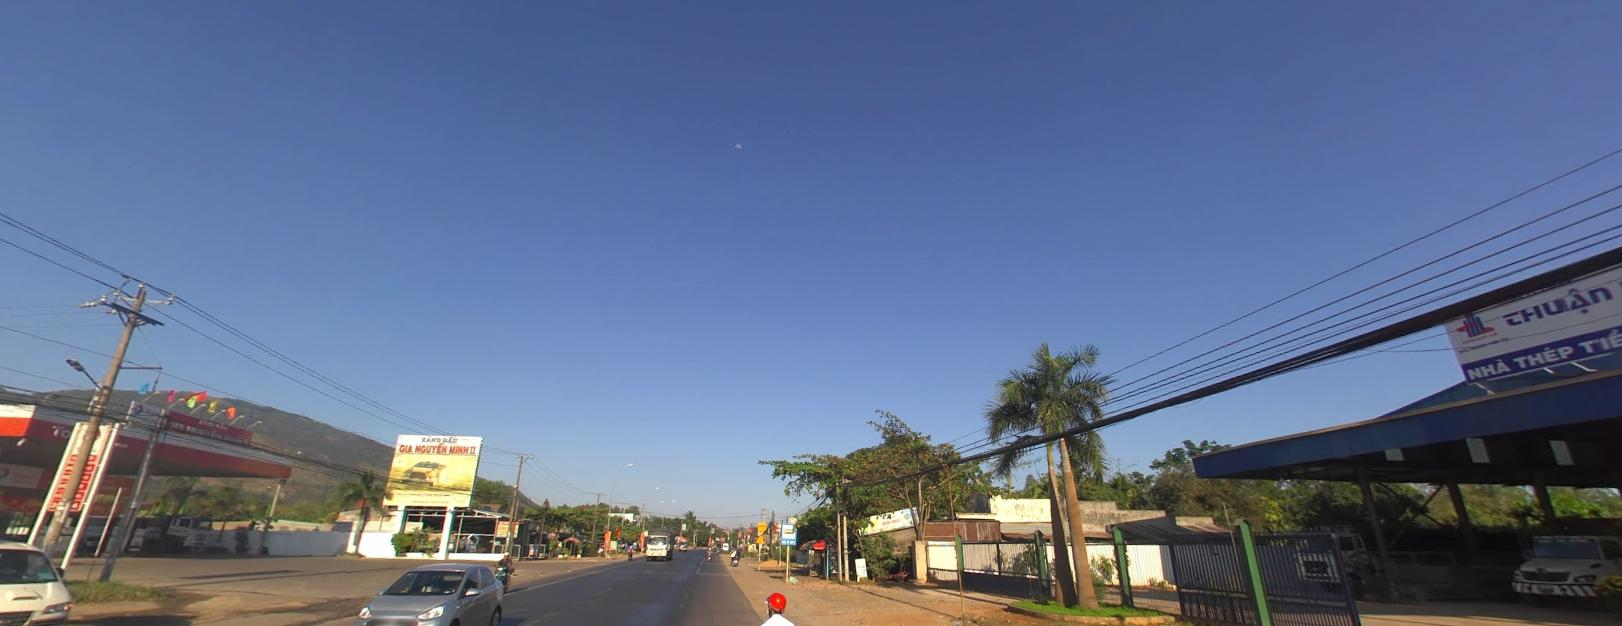Nguy hiem: (754, 533, 765, 541)
